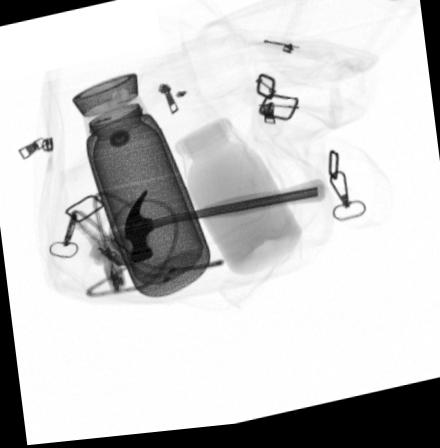Hammer: (123, 183, 327, 267)
